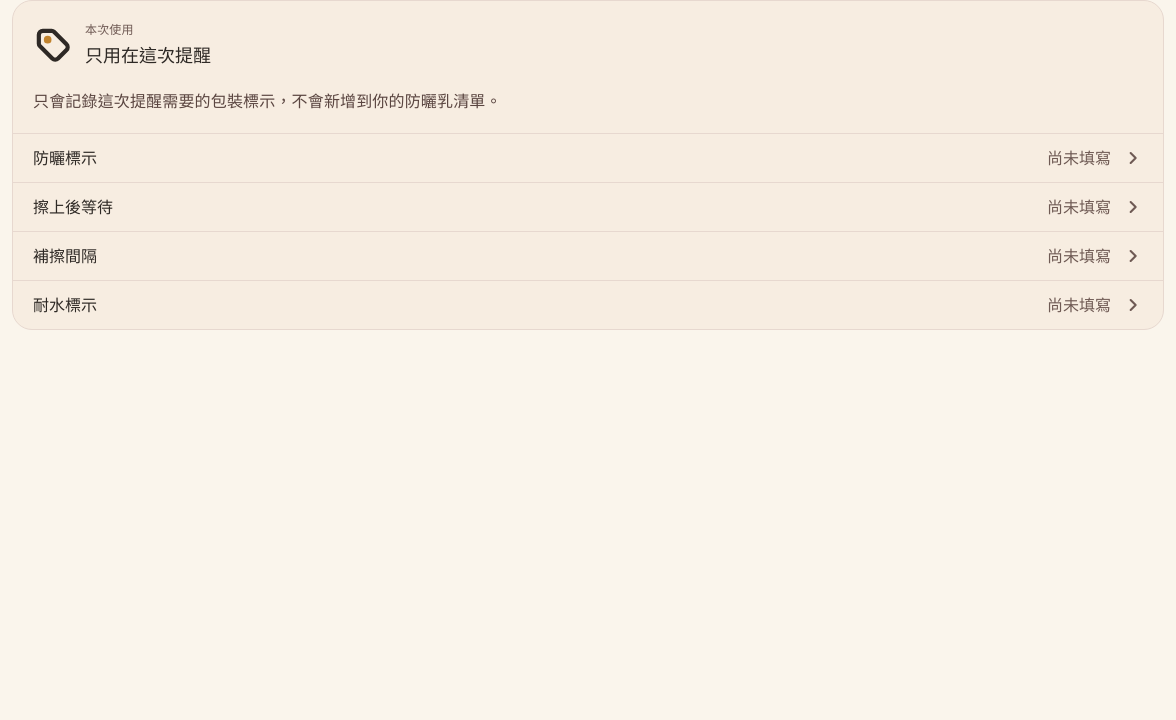
it: 耐水拆成兩層（裁決丙） › 選了「有耐水標示」才出現 40／80，預設 40
What coordinates should you click on to do the following:
click the button with class "label-question__row" showing "耐水標示 尚未填寫"
I would click on:
 (65, 305)
Its box is [13,281,1163,329].
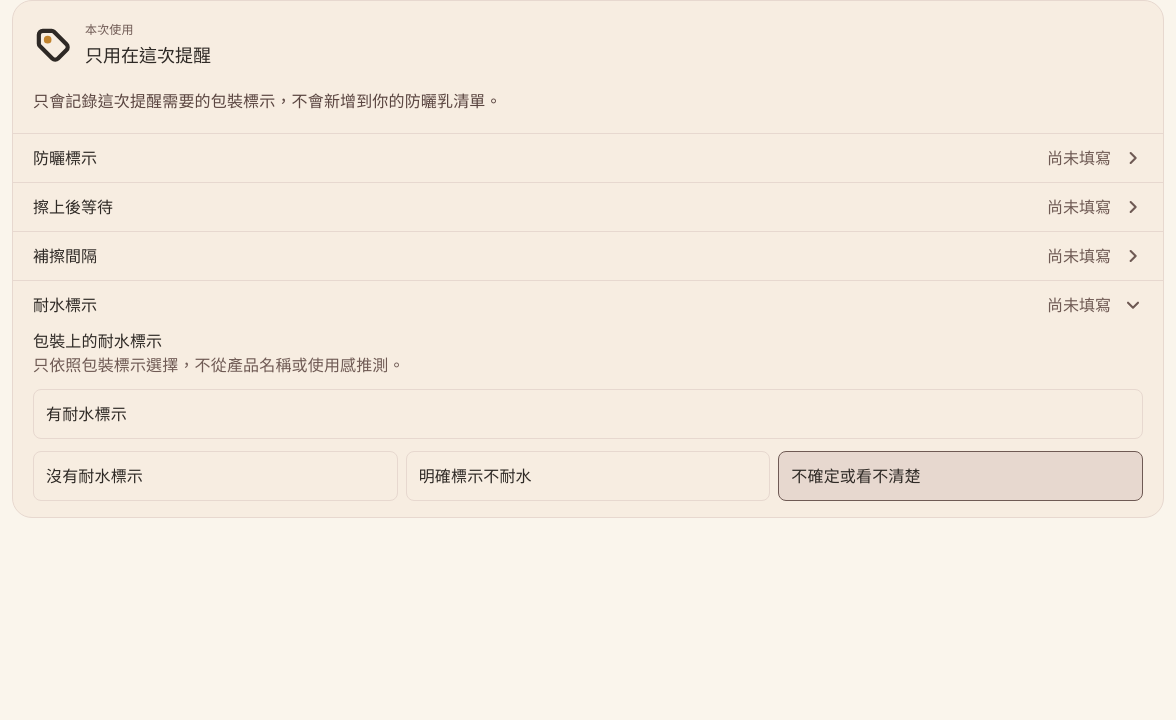
What coordinates should you click on to do the following:
click the radio button labelled "有耐水標示"
I would click on:
 (86, 414)
Its box is [33,389,1143,439].
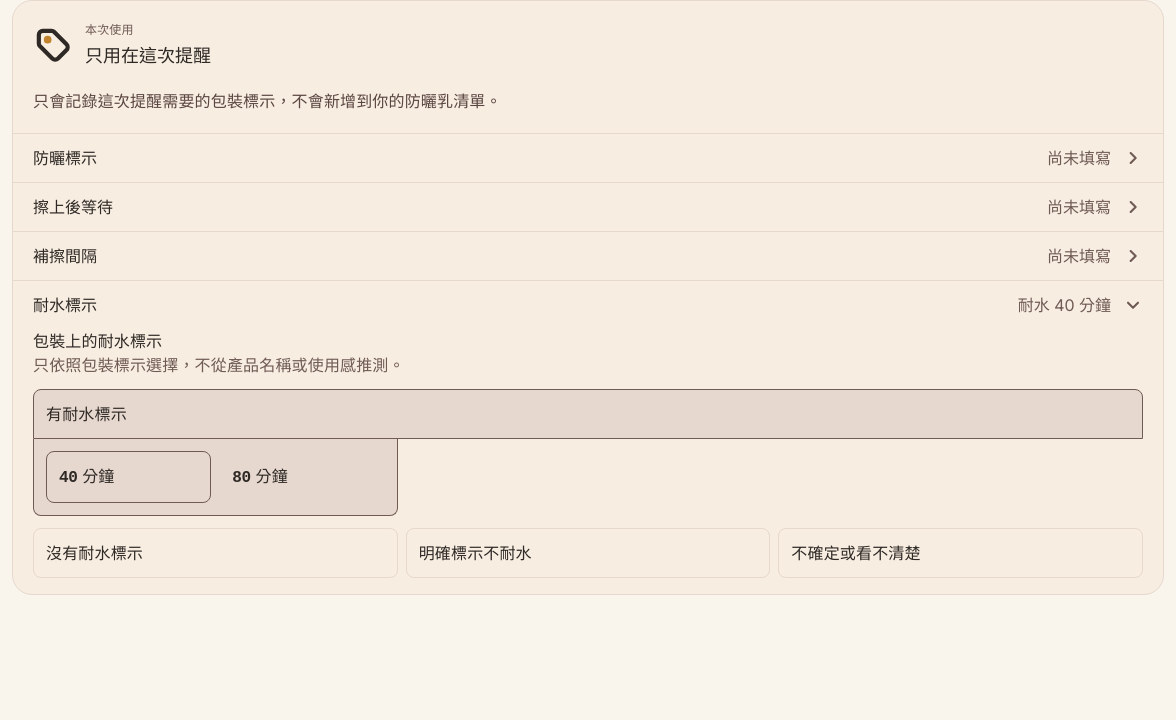
Check: the element with class "label-question__minutes" is shown, box [33,439,398,516]
Check: the button with class "label-question__row" shows "耐水 40 分鐘", box [13,281,1163,329]
